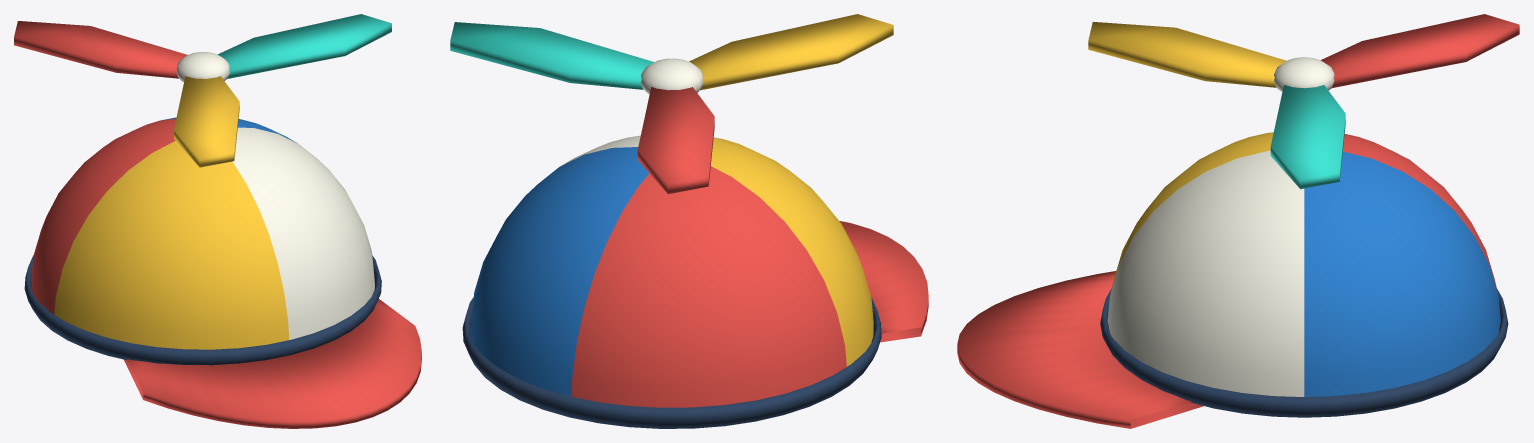
Rendered from PropellerCap.glb.
3 views of the same model, side by side, from view 1: azimuth 30°, elevation 25°; view 2: azimuth 150°, elevation 25°; view 3: azimuth 270°, elevation 25° (orthographic). The views are drawn at different scales.
Parts seen in each view (by area): view 1: DF_PropellerCap; view 2: DF_PropellerCap; view 3: DF_PropellerCap.
Part boxes in pixels (x1,y1,x2,y2): DF_PropellerCap: (14, 14, 421, 428); DF_PropellerCap: (450, 14, 928, 428); DF_PropellerCap: (957, 14, 1519, 428).
Bounding box in the file's own units: 2.28 × 1.63 × 2.85.
